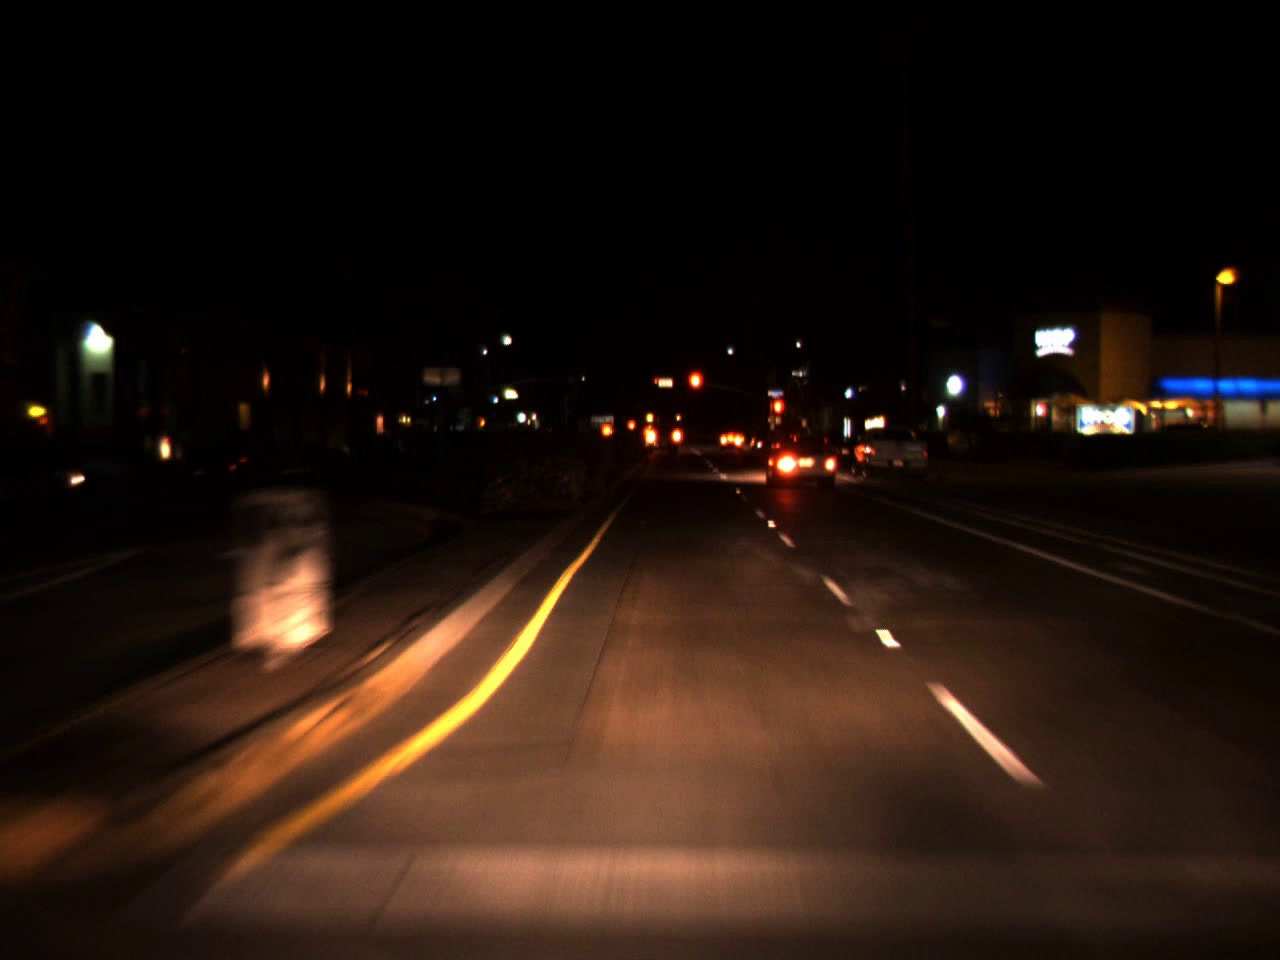stop: (685, 368, 703, 411), (770, 396, 783, 431), (652, 376, 659, 392)
